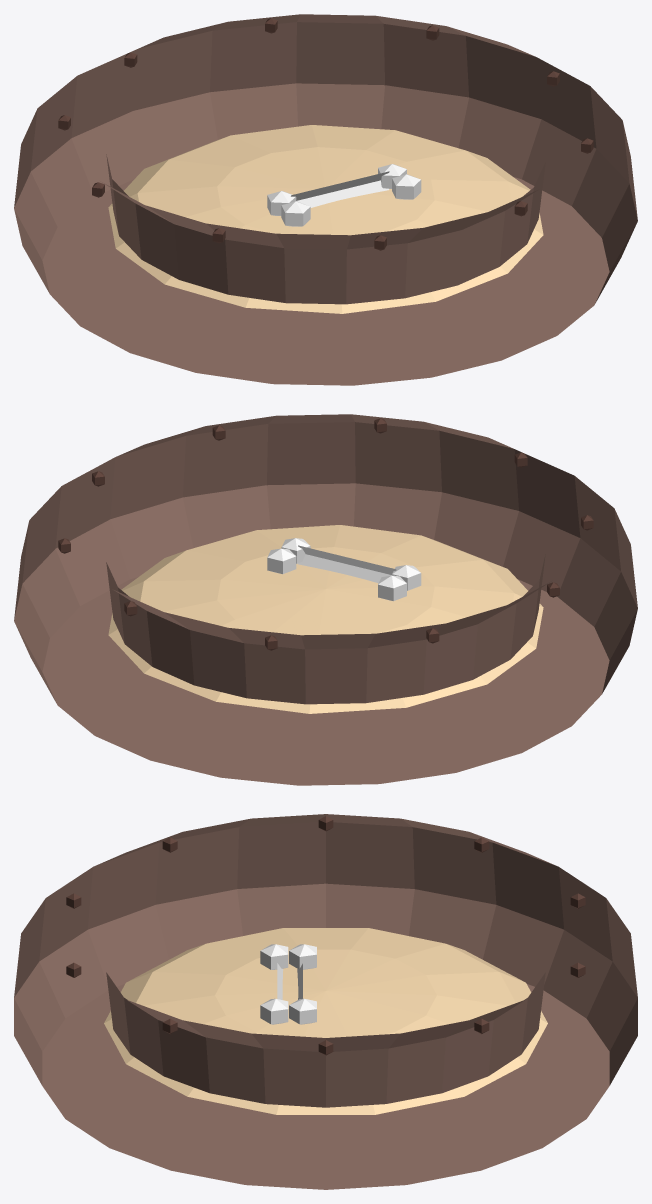
File: hundbadd.glb
The picture shows the model from 3 angles, top to bottom: view 1: azimuth 30°, elevation 25°; view 2: azimuth 150°, elevation 25°; view 3: azimuth 270°, elevation 25°; orthographic projection.
Visible parts, largest first — view 1: hundbadd; view 2: hundbadd; view 3: hundbadd.
Boxes of the visible parts, x1,y1,x2,y2 form: hundbadd: (14, 14, 637, 385); hundbadd: (14, 414, 637, 785); hundbadd: (14, 814, 637, 1189).
Size of the model in its own units: 0.88 by 0.22 by 0.8711.
